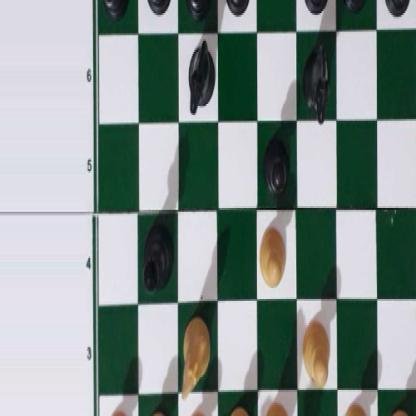black-bishop: (140, 219, 176, 292)
black-knight: (302, 39, 330, 121), (187, 37, 214, 110)
black-pawn: (263, 130, 290, 197), (186, 0, 210, 19), (384, 0, 414, 15), (101, 0, 128, 15), (145, 0, 171, 15), (224, 0, 250, 15), (302, 0, 329, 11), (343, 0, 369, 9)
white-knight: (180, 310, 210, 396), (262, 397, 291, 416)
white-pawn: (301, 314, 329, 384), (258, 221, 285, 286), (340, 397, 371, 416), (225, 403, 253, 416), (102, 405, 132, 416), (387, 405, 416, 416), (143, 407, 171, 416), (184, 410, 211, 416)
